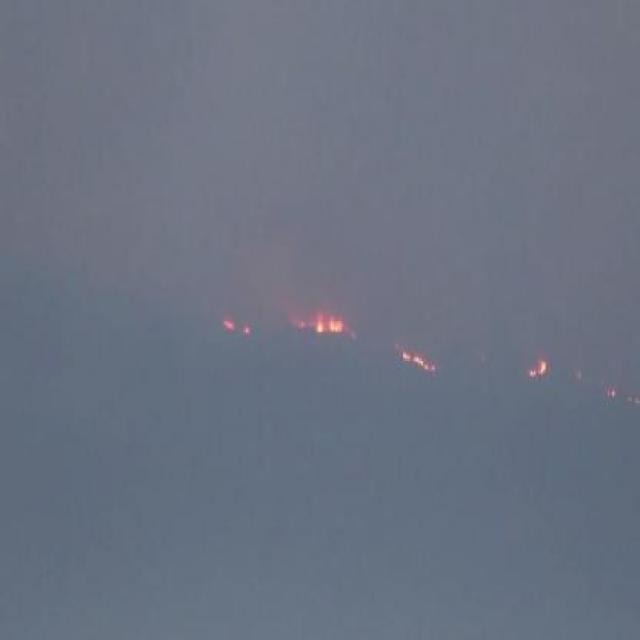Fire: (296, 310, 349, 338), (402, 350, 436, 373), (528, 356, 547, 381), (221, 318, 234, 330)
